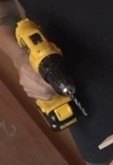driller: (13, 16, 91, 134)
